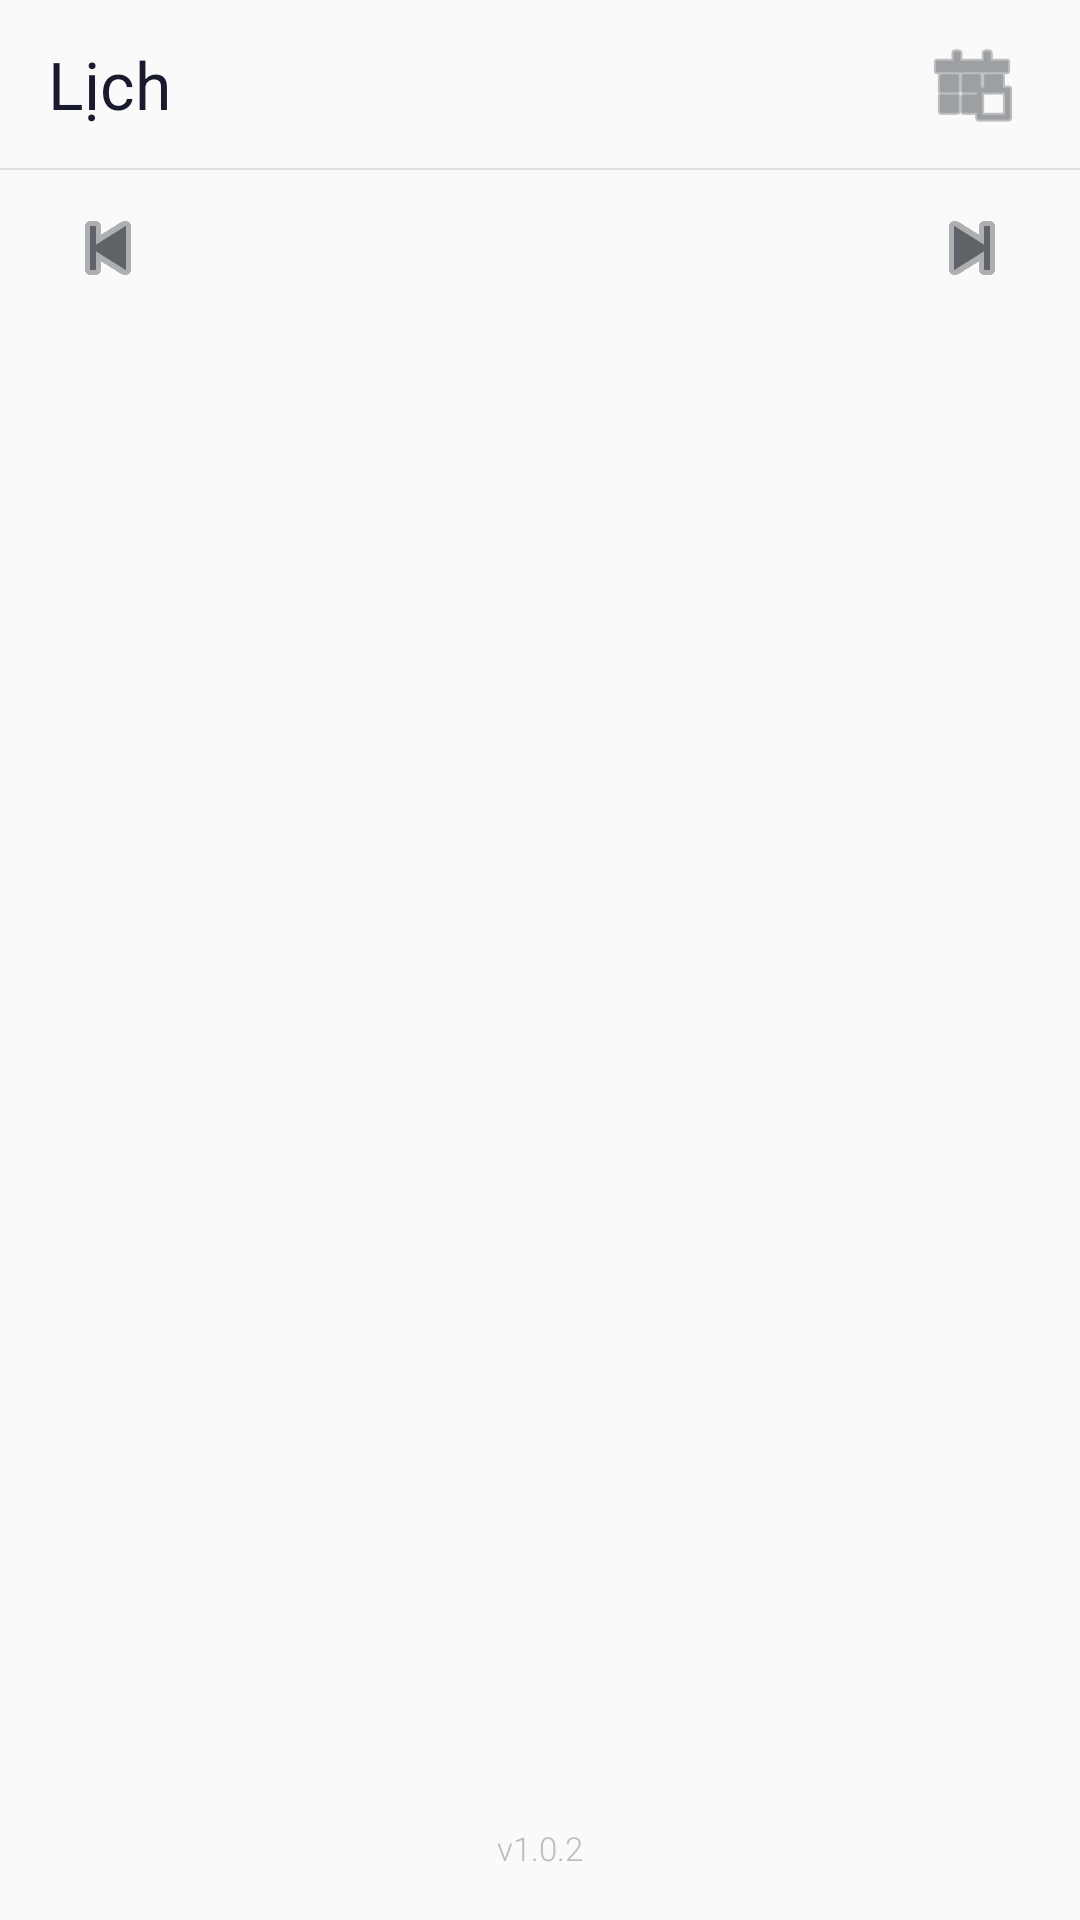

Locate icon controls on the screen. Image size 1080 × 1920, boxes as (x1, y1, x2, y2).
Hôm nay: (934, 49, 1012, 122)
Tháng sau: (949, 221, 995, 275)
Tháng trước: (85, 221, 131, 275)
